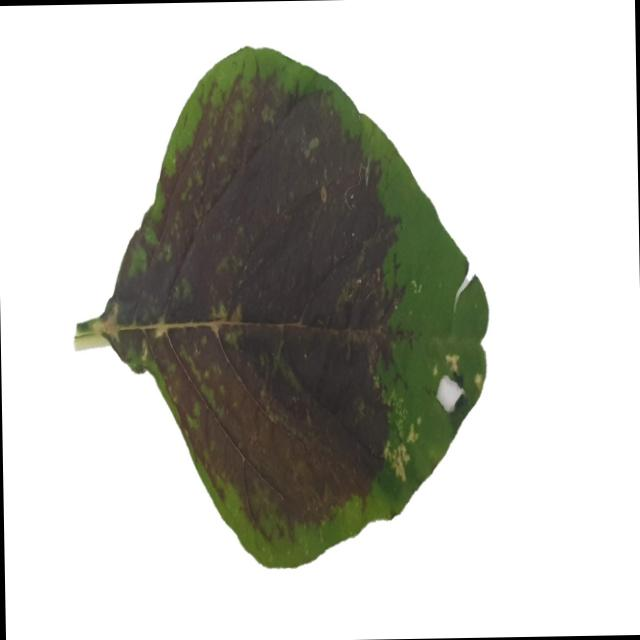Medicinal-Arive Dantu: (71, 38, 491, 570)
